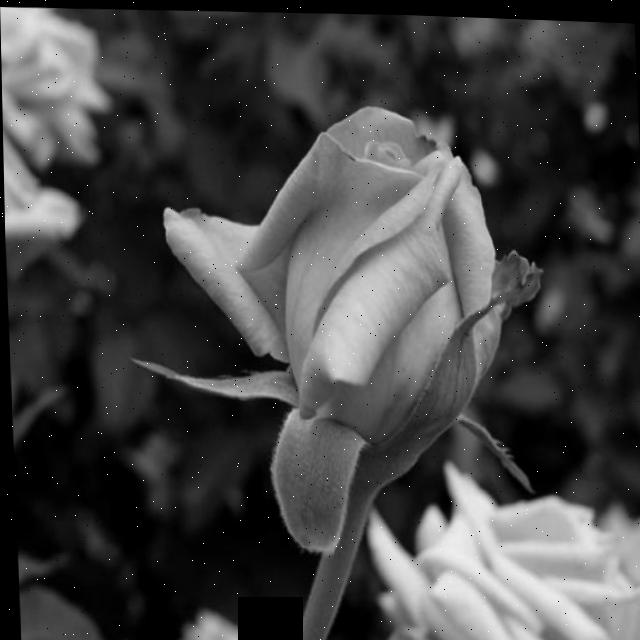rose: (168, 73, 538, 523)
